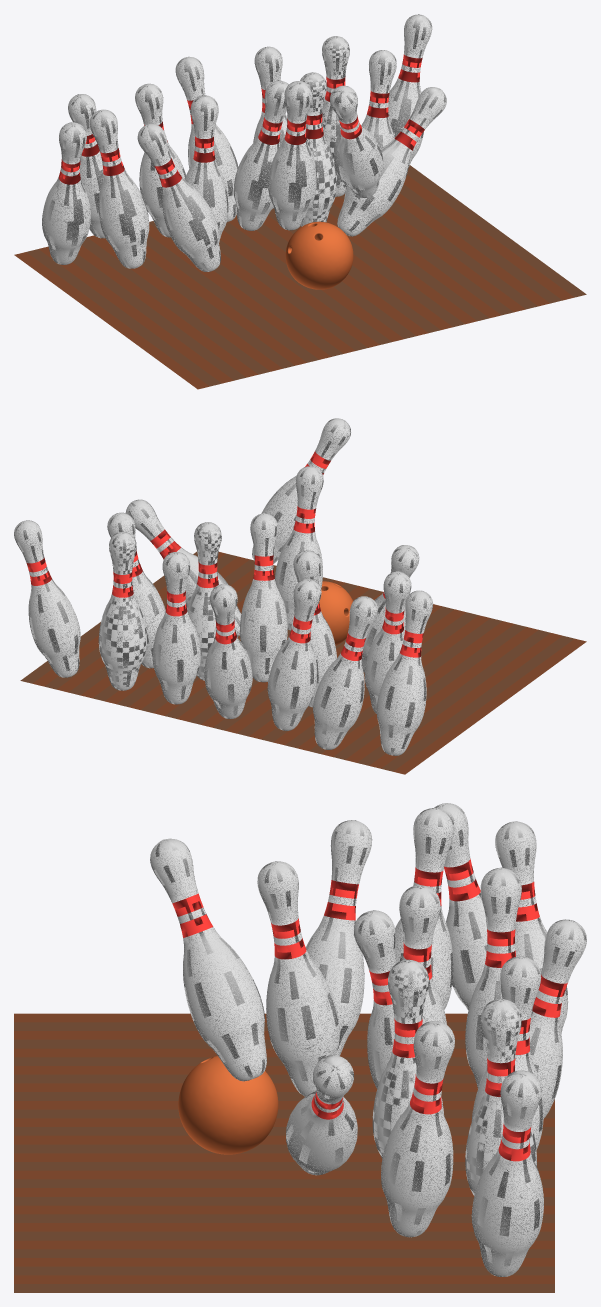
Rendered from smashingscene.glb.
3 views of the same model, one above another, from view 1: azimuth 30°, elevation 25°; view 2: azimuth 150°, elevation 25°; view 3: azimuth 270°, elevation 25° (orthographic). The views are drawn at different scales.
Visible parts, largest first — view 1: board.002, Bowling Pin.046, Bowling Pin.047, Bowling Pin.033, Bowling Pin.042, Bowling Pin.036, Bowling Pin.034, Bowling Pin.032, bowling ball.002, Bowling Pin.045, Bowling Pin.041, Bowling Pin.037 (+6 smaller); view 2: board.002, Bowling Pin.042, Bowling Pin.041, Bowling Pin.034, Bowling Pin.039, Bowling Pin.043, Bowling Pin.044, Bowling Pin.040, Bowling Pin.035, Bowling Pin.033, Bowling Pin.046, Bowling Pin.037 (+6 smaller); view 3: board.002, Bowling Pin.032, Bowling Pin.033, Bowling Pin.038, Bowling Pin.041, Bowling Pin.047, bowling ball.002, Bowling Pin.036, Bowling Pin.037, Bowling Pin.035, Bowling Pin.042, Bowling Pin.039 (+6 smaller).
Boxes of the visible parts, bbox=[...] form: board.002: bbox=[14, 165, 586, 389]; Bowling Pin.046: bbox=[90, 109, 149, 268]; Bowling Pin.047: bbox=[137, 123, 220, 271]; Bowling Pin.033: bbox=[268, 81, 316, 230]; Bowling Pin.042: bbox=[42, 122, 90, 264]; Bowling Pin.036: bbox=[337, 87, 446, 236]; Bowling Pin.034: bbox=[233, 80, 288, 230]; Bowling Pin.032: bbox=[330, 85, 383, 197]; bowling ball.002: bbox=[285, 221, 353, 289]; Bowling Pin.045: bbox=[184, 95, 228, 242]; Bowling Pin.041: bbox=[388, 14, 432, 166]; Bowling Pin.037: bbox=[300, 72, 337, 226]; board.002: bbox=[20, 551, 586, 774]; Bowling Pin.042: bbox=[376, 590, 433, 755]; Bowling Pin.041: bbox=[14, 520, 80, 677]; Bowling Pin.034: bbox=[240, 513, 287, 682]; Bowling Pin.039: bbox=[98, 531, 146, 690]; Bowling Pin.043: bbox=[313, 596, 377, 749]; Bowling Pin.044: bbox=[267, 579, 321, 730]; Bowling Pin.040: bbox=[152, 552, 200, 704]; Bowling Pin.035: bbox=[204, 584, 252, 718]; Bowling Pin.033: bbox=[275, 466, 323, 630]; Bowling Pin.046: bbox=[364, 571, 411, 713]; Bowling Pin.037: bbox=[187, 522, 221, 680]; board.002: bbox=[14, 1013, 554, 1292]; Bowling Pin.032: bbox=[150, 838, 266, 1081]; Bowling Pin.033: bbox=[257, 861, 339, 1096]; Bowling Pin.038: bbox=[381, 1021, 454, 1237]; Bowling Pin.041: bbox=[471, 1070, 543, 1276]; Bowling Pin.047: bbox=[305, 820, 372, 1056]; bowling ball.002: bbox=[178, 1056, 278, 1154]; Bowling Pin.036: bbox=[286, 1055, 357, 1175]; Bowling Pin.037: bbox=[372, 959, 444, 1158]; Bowling Pin.035: bbox=[529, 919, 586, 1118]; Bowling Pin.042: bbox=[434, 803, 487, 1009]; Bowling Pin.039: bbox=[465, 999, 536, 1195].
Bounding box in the file's own units: 1.48 × 0.7582 × 1.24.
